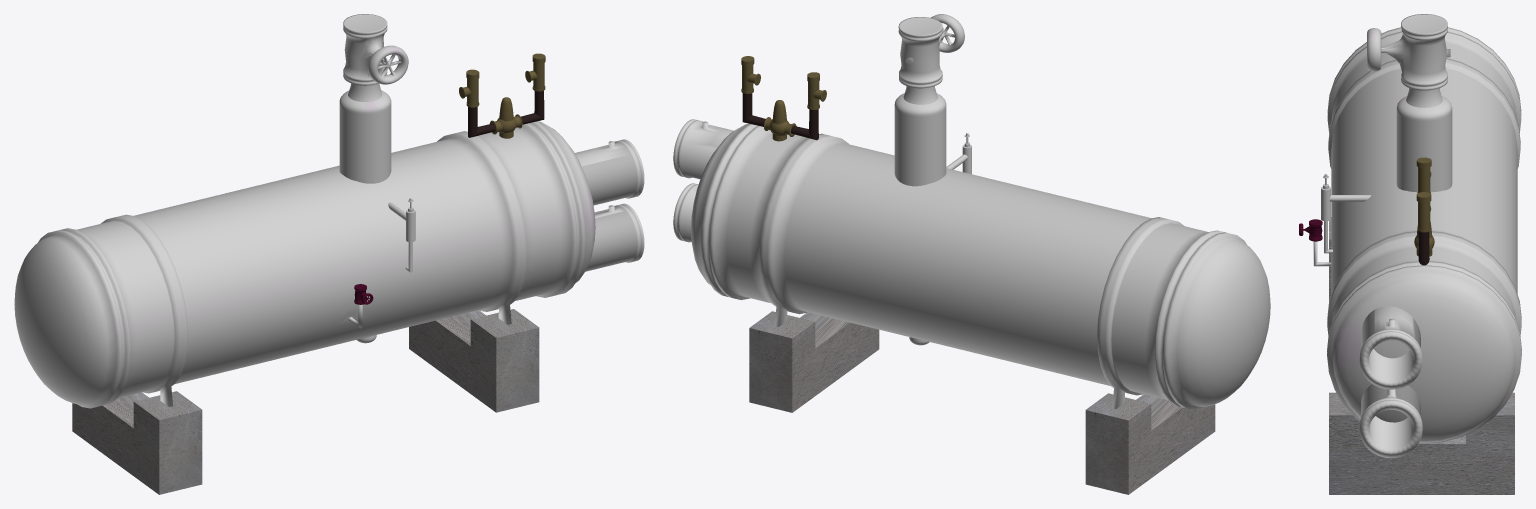
Rendered from испар.fbx.
3 renders of one model, left to right at view 1: azimuth 30°, elevation 25°; view 2: azimuth 150°, elevation 25°; view 3: azimuth 270°, elevation 25°, orthographic. The views are drawn at different scales.
Visible parts, largest first — view 1: Sphere.019, Cube.040, Cube.041, Sphere.020, Cylinder.065, Cylinder.063, Cylinder.064, Sphere.022, Cylinder.068; view 2: Sphere.019, Cube.040, Cube.041, Sphere.020, Cylinder.065, Cylinder.063, Cylinder.064, Sphere.022; view 3: Sphere.019, Cube.040, Cylinder.065, Sphere.020, Cylinder.063, Cylinder.064, Cylinder.068, Sphere.024, Sphere.023, Cylinder.070, Cylinder.066.
Boxes of the visible parts, left/top/right/bottom form: Sphere.019: left=14, top=121, right=595, bottom=408; Cube.040: left=409, top=309, right=539, bottom=412; Cube.041: left=72, top=391, right=202, bottom=494; Sphere.020: left=339, top=90, right=391, bottom=183; Cylinder.065: left=343, top=14, right=408, bottom=101; Cylinder.063: left=575, top=139, right=644, bottom=205; Cylinder.064: left=585, top=203, right=644, bottom=271; Sphere.022: left=489, top=97, right=522, bottom=138; Cylinder.068: left=388, top=197, right=415, bottom=272; Sphere.019: left=691, top=123, right=1270, bottom=410; Cube.040: left=749, top=311, right=879, bottom=412; Cube.041: left=1085, top=393, right=1215, bottom=494; Sphere.020: left=894, top=93, right=946, bottom=186; Cylinder.065: left=898, top=14, right=964, bottom=104; Cylinder.063: left=673, top=119, right=733, bottom=179; Cylinder.064: left=673, top=183, right=698, bottom=242; Sphere.022: left=764, top=100, right=796, bottom=141; Sphere.019: left=1313, top=27, right=1521, bottom=443; Cube.040: left=1329, top=392, right=1514, bottom=494; Cylinder.065: left=1367, top=14, right=1447, bottom=107; Sphere.020: left=1396, top=96, right=1452, bottom=192; Cylinder.063: left=1359, top=306, right=1422, bottom=389; Cylinder.064: left=1359, top=384, right=1422, bottom=458; Cylinder.068: left=1321, top=174, right=1371, bottom=253; Sphere.024: left=1416, top=192, right=1431, bottom=232; Sphere.023: left=1416, top=157, right=1431, bottom=193; Cylinder.070: left=1418, top=231, right=1429, bottom=265; Cylinder.066: left=1299, top=219, right=1322, bottom=241.
Bounding box in the file's own units: 770 × 479 × 240.
